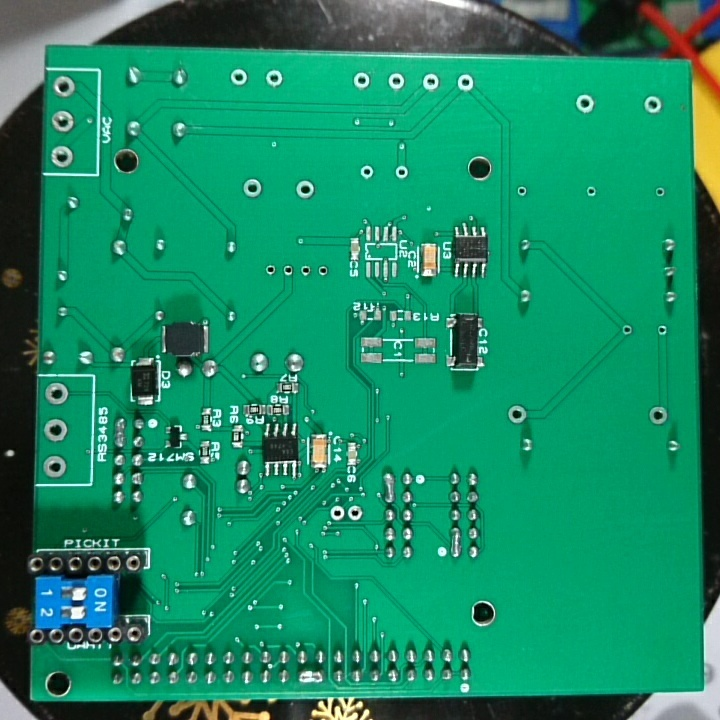F: (41, 451, 70, 480), (42, 415, 70, 445), (42, 380, 70, 408), (50, 74, 79, 100), (505, 400, 530, 430), (573, 90, 599, 116), (50, 109, 76, 135), (50, 143, 76, 169), (240, 177, 266, 201), (227, 66, 251, 90), (647, 403, 671, 426), (641, 92, 665, 115), (350, 69, 373, 93), (293, 178, 318, 200), (454, 70, 477, 93), (264, 66, 286, 90), (421, 70, 442, 94), (387, 70, 407, 92), (327, 503, 347, 525), (347, 501, 364, 525), (393, 163, 412, 183), (357, 162, 376, 181), (618, 321, 636, 340), (296, 263, 313, 280), (262, 262, 279, 279), (584, 183, 599, 202), (655, 320, 669, 340), (514, 183, 530, 200), (315, 263, 331, 280), (653, 183, 668, 200), (281, 264, 296, 280)
P: (296, 666, 327, 687), (381, 470, 399, 506), (112, 413, 129, 451), (449, 526, 464, 562)
